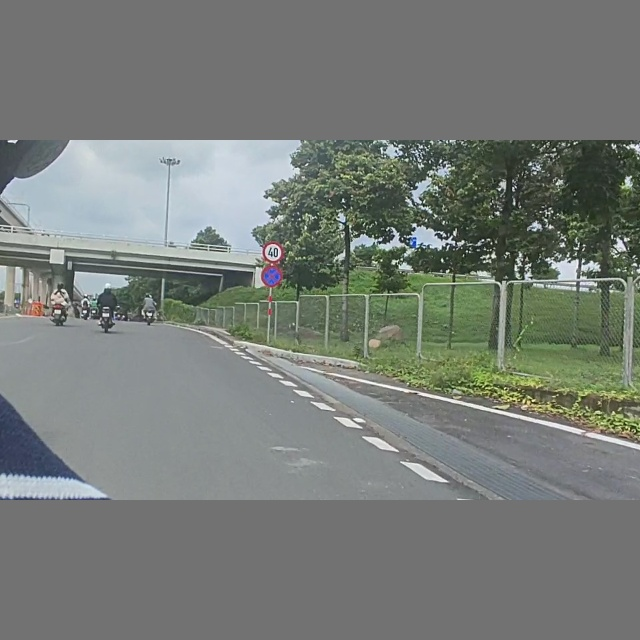P.127*40: (263, 242, 284, 263)
P.130: (261, 265, 283, 287)
